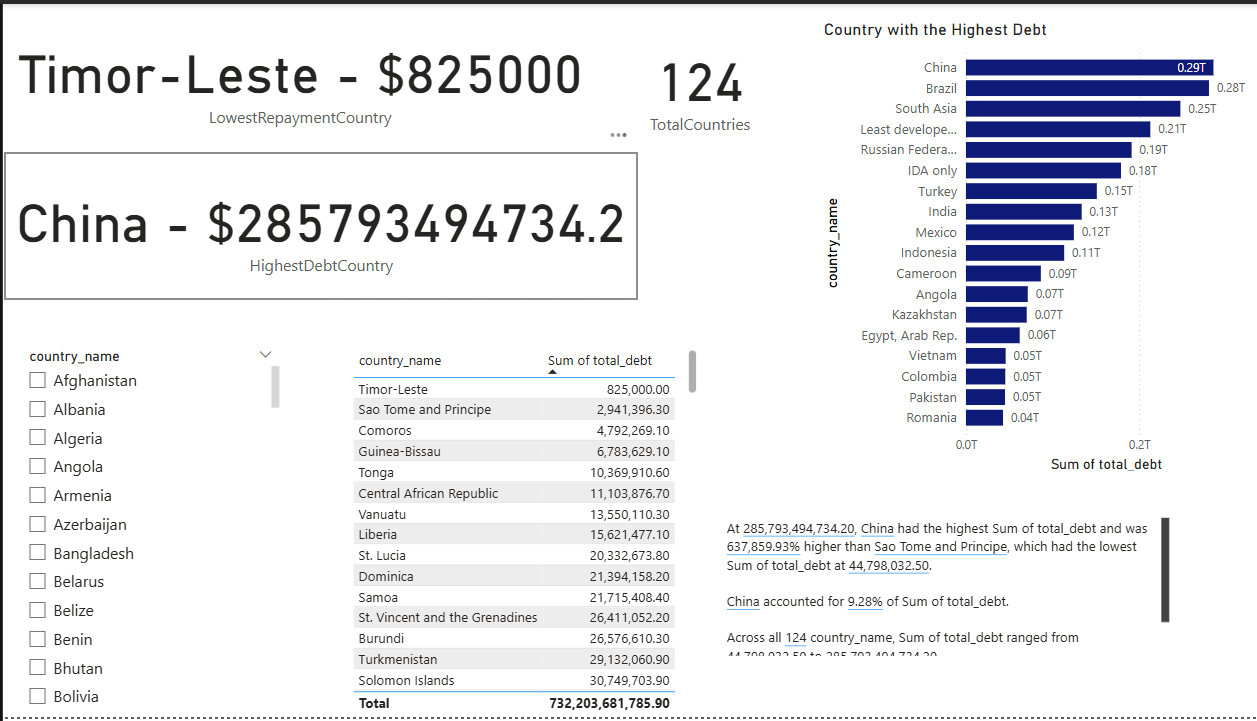

The dashboard page shown, as its layout file describes it:
{"tool":"powerbi","page":{"name":"Page 1","canvas":[1280,720],"ordinal":0},"visuals":[{"type":"card","fields":{"Values":["international_debt.TotalCountries"]},"box":[619.8,15.1,168.2,134.2],"z":0},{"type":"barChart","title":"Country with the Highest Debt","fields":{"Category":["international_debt.country_name"],"Y":["Sum(international_debt.total_debt)"]},"box":[823.9,15.1,455.4,461.1],"z":1000},{"type":"tableEx","fields":{"Values":["international_debt.country_name","Sum(international_debt.total_debt)"]},"box":[347.7,343.9,357.2,376.1],"z":2000},{"type":"slicer","fields":{"Values":["international_debt.country_name"]},"box":[13.2,342,270.2,378],"z":3000},{"type":"card","fields":{"Values":["international_debt.HighestDebtCountry"]},"box":[1.9,149.3,638.7,149.3],"z":4000},{"type":"card","fields":{"Values":["international_debt.LowestRepaymentCountry"]},"box":[0,0,599.1,149.3],"z":5000},{"type":"textbox","box":[725.7,514,457.3,149.3],"z":5001}]}

Visuals, with their boxes in screenshot pixels (x1, y1, x2, y2), scaled from the page's 1280x720 canvas onto the 1257x721 screenshot:
card - international_debt.TotalCountries: bbox=[609, 15, 774, 150]
"Country with the Highest Debt" barChart: bbox=[809, 15, 1256, 477]
tableEx - international_debt.country_name x Sum(international_debt.total_debt): bbox=[341, 344, 692, 720]
slicer - international_debt.country_name: bbox=[13, 342, 278, 720]
card - international_debt.HighestDebtCountry: bbox=[2, 150, 629, 299]
card - international_debt.LowestRepaymentCountry: bbox=[0, 0, 588, 150]
textbox: bbox=[713, 515, 1162, 664]
